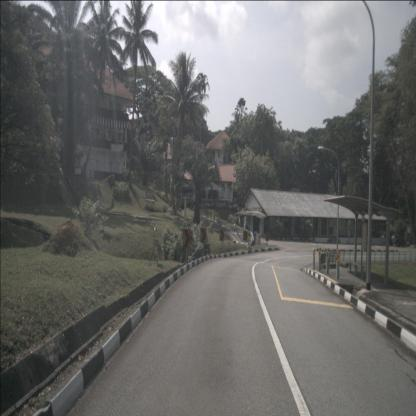vehicle-car: (390, 235, 406, 248)
